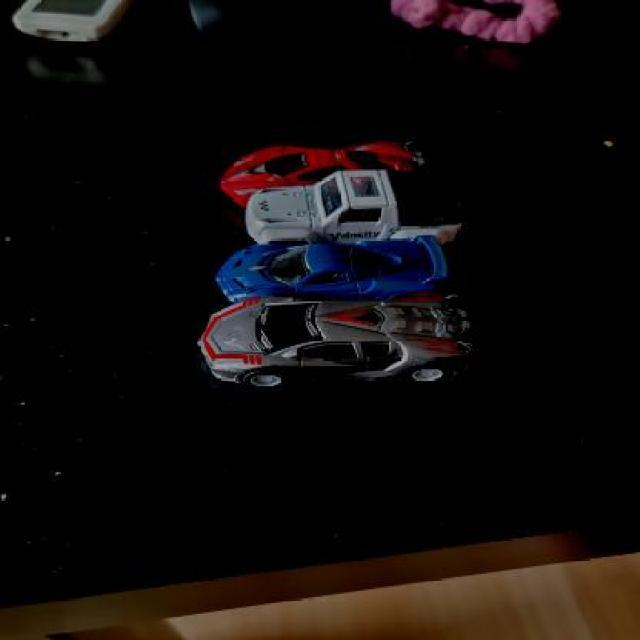car: (186, 298, 479, 390), (222, 169, 486, 249), (204, 232, 466, 306), (183, 137, 437, 210)
